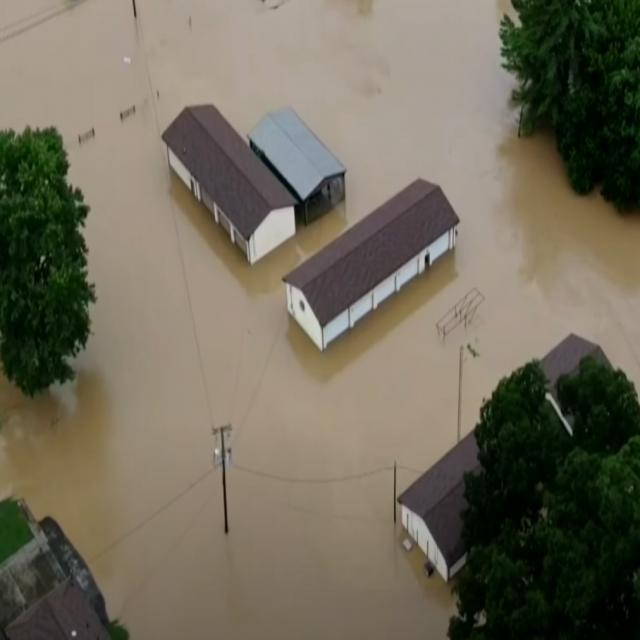flood: (0, 0, 640, 640)
house: (398, 331, 616, 580), (268, 169, 471, 357), (150, 94, 361, 262), (250, 107, 350, 230), (1, 567, 120, 640)
